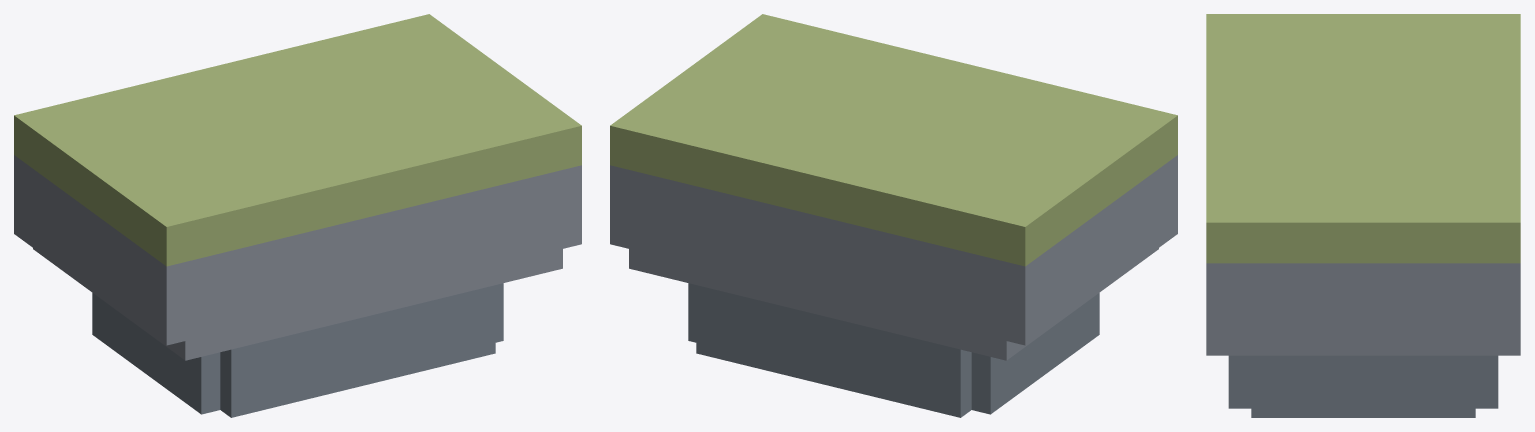
The model's file is reef_ledge.glb.
3 renders of one model, left to right at view 1: azimuth 30°, elevation 25°; view 2: azimuth 150°, elevation 25°; view 3: azimuth 270°, elevation 25°, orthographic. The views are drawn at different scales.
Size of the model in its own units: 0.9167 by 0.4583 by 0.5833.
